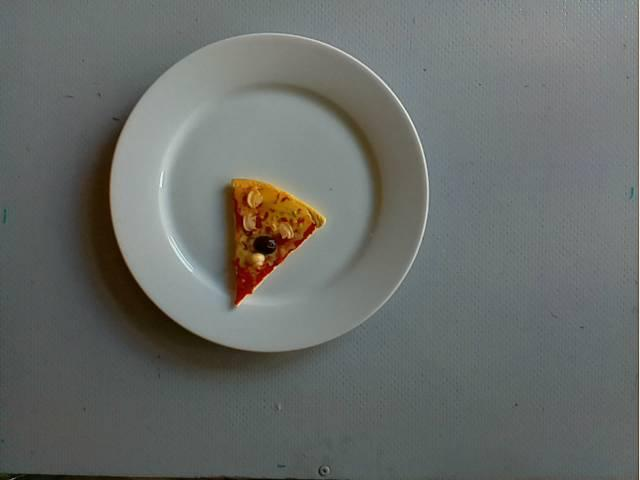Pizza slice (mushroom): (228, 178, 326, 309)
